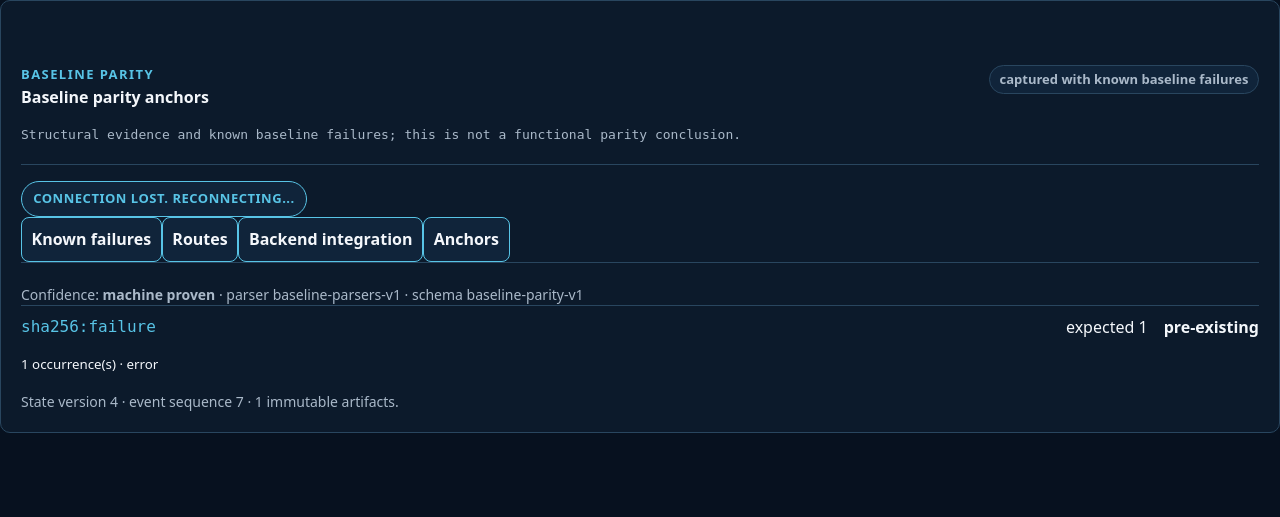
Scenario: BaselineParityPanel › renders confidence, pre-existing failures, and evidence tabs
expect the text "expected 1" is shown: met, box [1066,315,1148,339]
expect the text "pre-existing" is shown: met, box [1164,315,1259,339]
Click the button "Routes": (200, 240) [162,217,238,262]
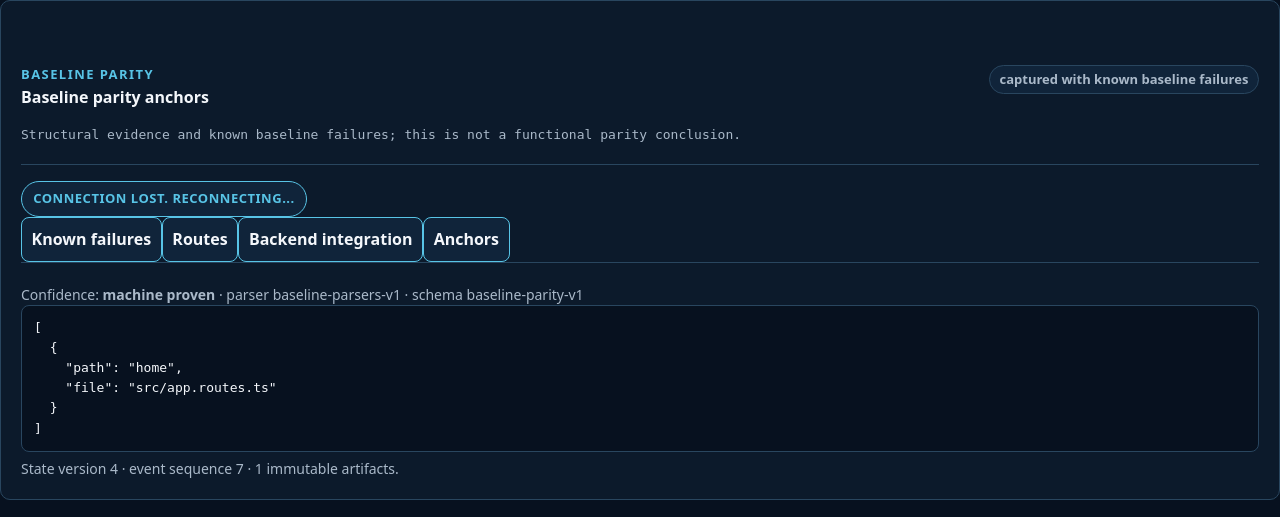
expect the text "Connection lost. Reconnecting..." is shown: met, box [21,181,307,217]
expect the text "[ { \"path\": \"home\", \"file\": \"src/app.routes.ts\" } ]" is shown: met, box [21,305,1259,452]
